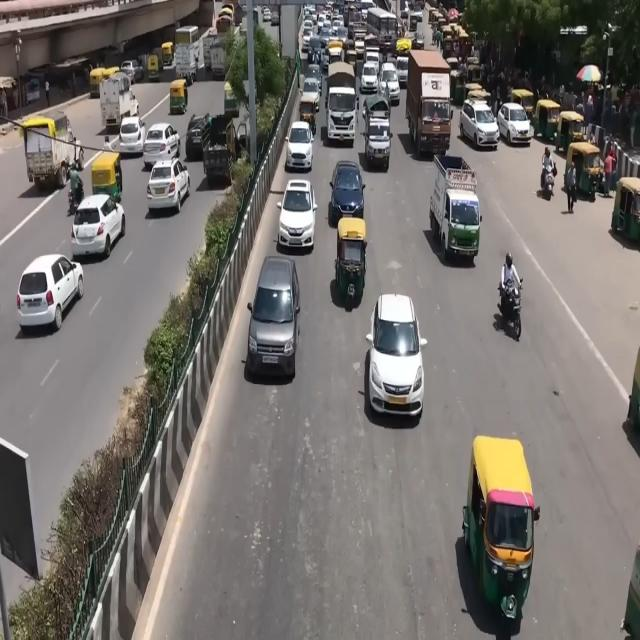auto: (464, 436, 538, 618), (429, 153, 480, 264), (334, 216, 367, 302), (564, 140, 604, 201), (611, 175, 640, 244), (91, 151, 124, 203), (555, 110, 585, 156), (534, 98, 562, 144), (511, 88, 535, 121), (169, 78, 188, 115), (448, 68, 466, 105), (465, 56, 484, 85), (89, 68, 105, 99), (147, 52, 161, 83), (161, 42, 174, 68)
bike-auto: (498, 276, 524, 341), (501, 252, 521, 308), (69, 163, 83, 207), (541, 162, 556, 200)
